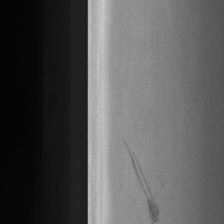water_spot: (121, 131, 172, 223)
